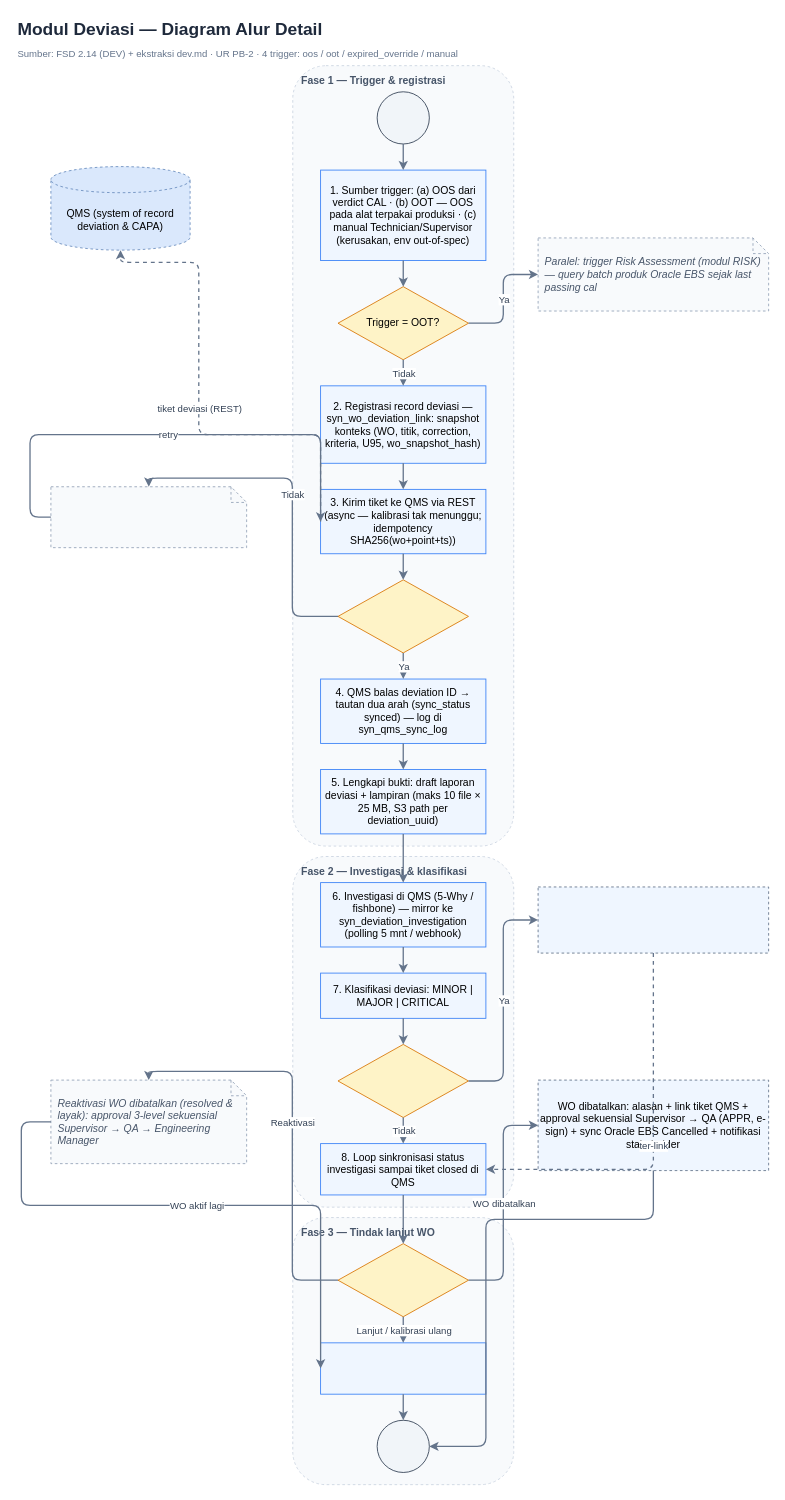
The diagram is 785 pixels wide and 1500 high, and some of its shapes have lost their labels. The shapes that lost their labels are listed below. From the top down, each one's centre as x and y in pixels, then its label:
the point at 402,117: Mulai (trigger deviasi)
the point at 148,517: Retry backoff; gagal permanen → DLQ (sync_status failed)
the point at 402,616: QMS merespons?
the point at 653,919: Auto-trigger CAPA di QMS — link dua arah deviasi ↔ CAPA (modul CAPA)
the point at 402,1081: MAJOR / CRITICAL?
the point at 402,1280: Keputusan tindak lanjut?
the point at 403,1368: 9. WO dilanjutkan / re-eksekusi — hasil baru kembali ke alur verdict CAL
the point at 402,1445: Selesai
